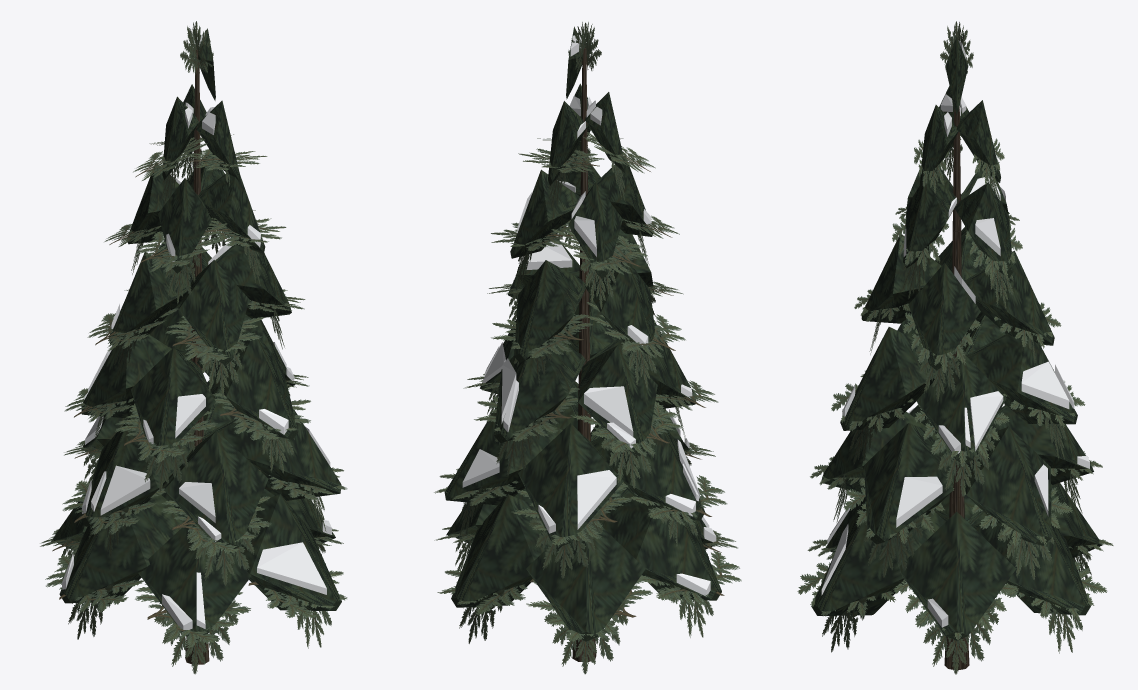
File: tree_snow_01.glb
3 renders of one model, left to right at view 1: azimuth 30°, elevation 25°; view 2: azimuth 150°, elevation 25°; view 3: azimuth 270°, elevation 25°, orthographic.
Parts seen in each view (by area): view 1: canonical_base, snow_accumulation; view 2: canonical_base, snow_accumulation; view 3: canonical_base, snow_accumulation.
Boxes of the visible parts, left/top/right/bottom form: canonical_base: left=40, top=21, right=347, bottom=674; snow_accumulation: left=62, top=34, right=331, bottom=629; canonical_base: left=434, top=22, right=741, bottom=674; snow_accumulation: left=462, top=35, right=716, bottom=596; canonical_base: left=797, top=21, right=1113, bottom=674; snow_accumulation: left=821, top=40, right=1089, bottom=627.
Size of the model in its own units: 3.2 by 6.8 by 3.2.
Materials: 4 (3 with a texture image).
